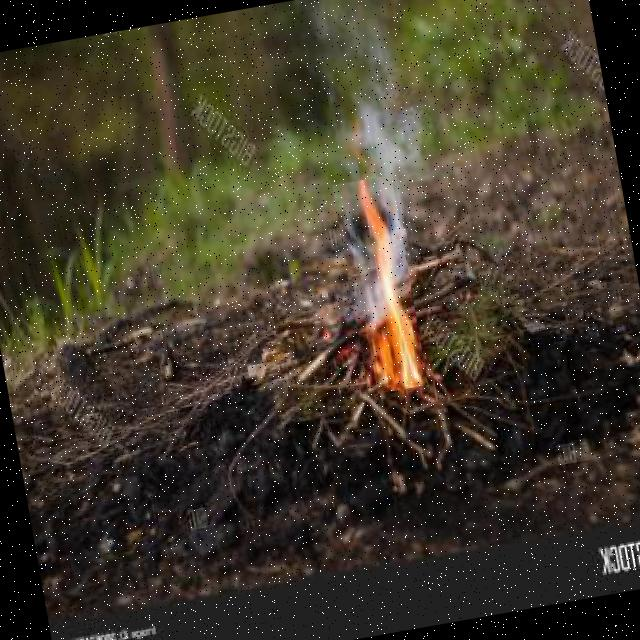fire: (332, 174, 428, 394)
